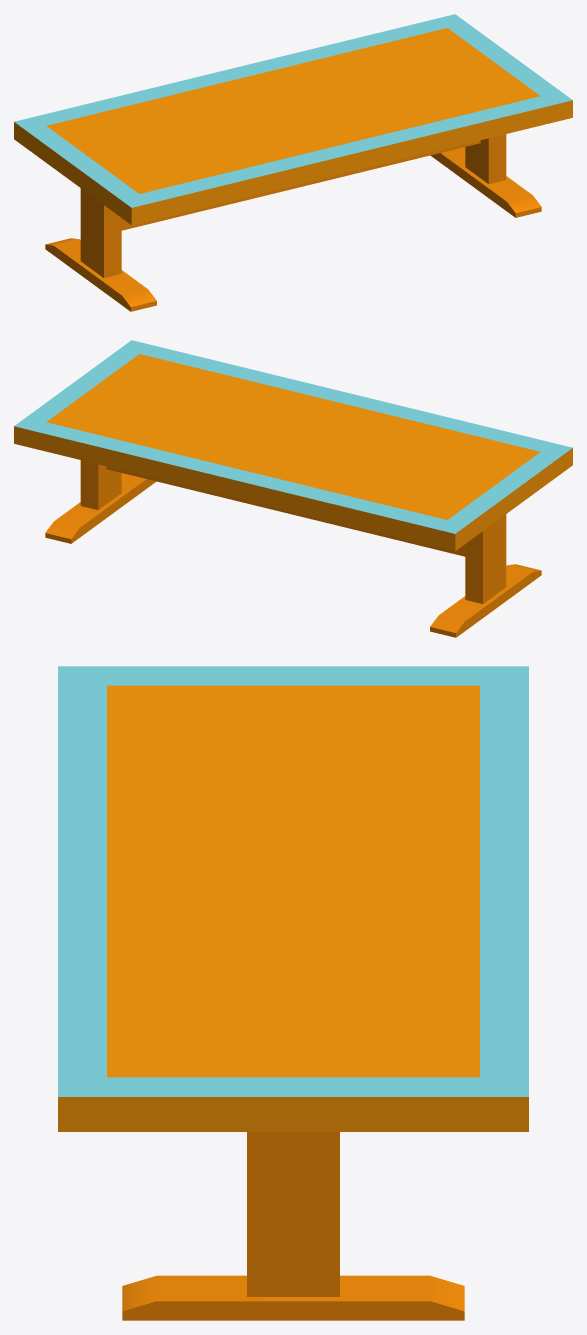
The model's file is Big_Table_lv2.fbx.
3 renders of one model, top to bottom at view 1: azimuth 30°, elevation 25°; view 2: azimuth 150°, elevation 25°; view 3: azimuth 270°, elevation 25°, orthographic. The views are drawn at different scales.
Visible parts, largest first — view 1: Big_Table_lv2; view 2: Big_Table_lv2; view 3: Big_Table_lv2.
Boxes of the visible parts, x1,y1,x2,y2 form: Big_Table_lv2: (14,14,572,311); Big_Table_lv2: (14,340,572,637); Big_Table_lv2: (58,666,528,1320).
Bounding box in the file's own units: 440 × 114 × 203.
